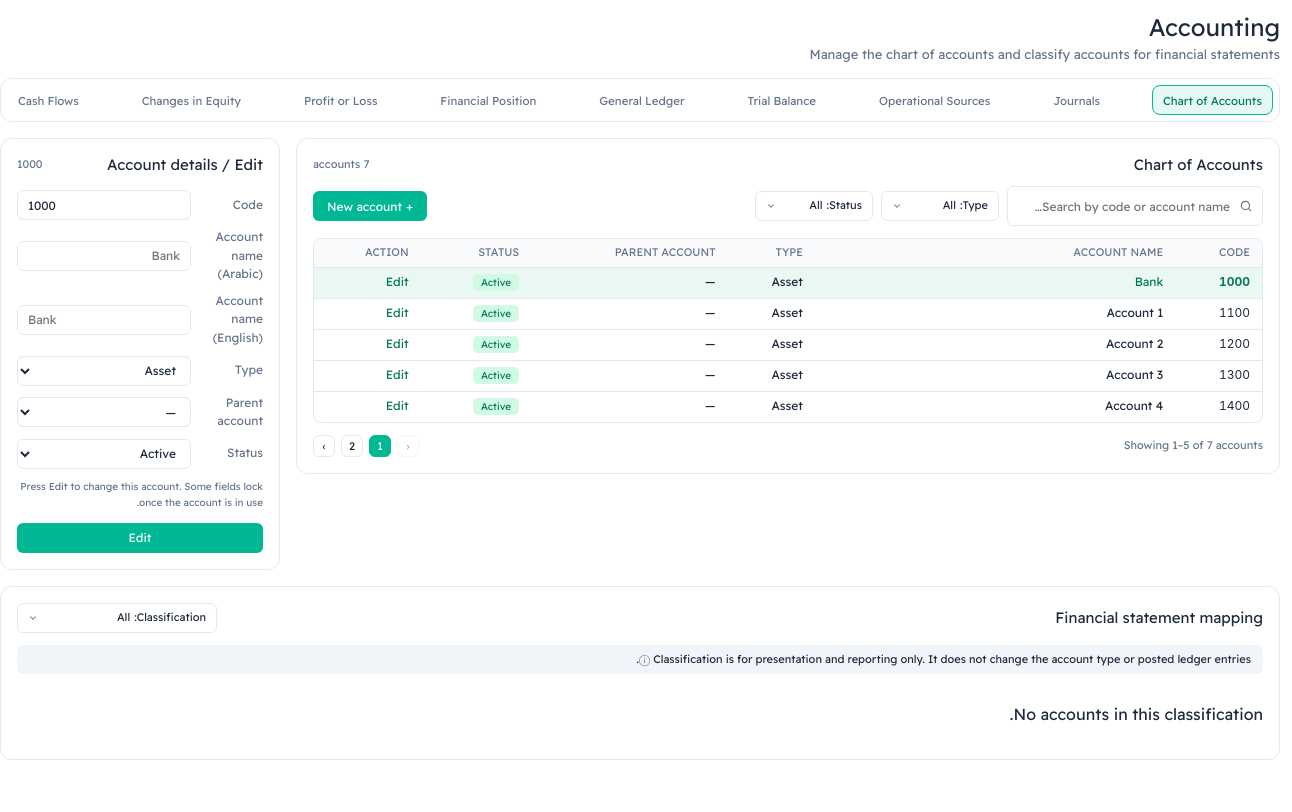
Test case: Accounting chart-of-accounts workspace › pages and filters the loaded accounts without extra requests
Check: the text "Bank" is shown, box [815, 267, 1175, 298]
Check: the text "Account 6" is not shown
Click the button "2": (352, 446) [341, 435, 363, 457]
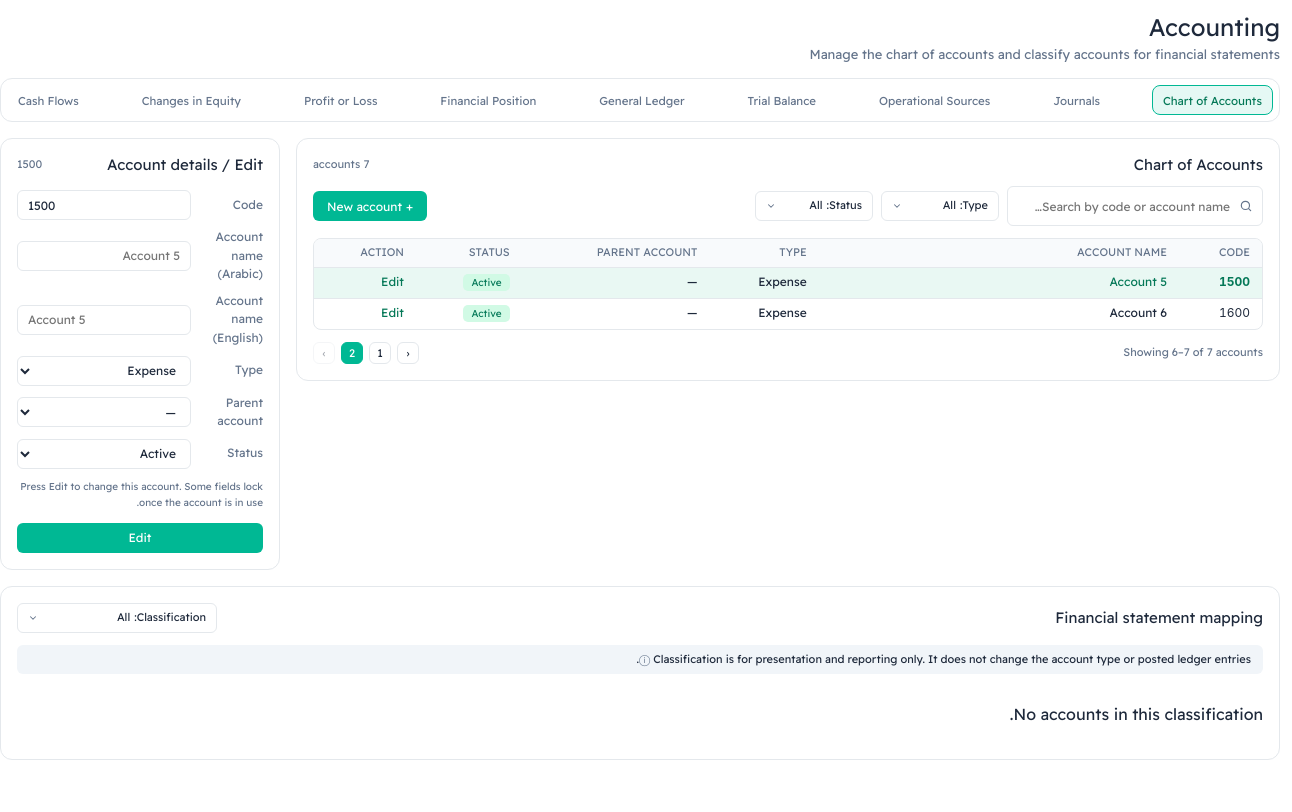
Check: the text "Account 6" is shown, box [819, 298, 1179, 329]
In the search field: (1135, 206) [1007, 186, 1263, 226], type "bank"
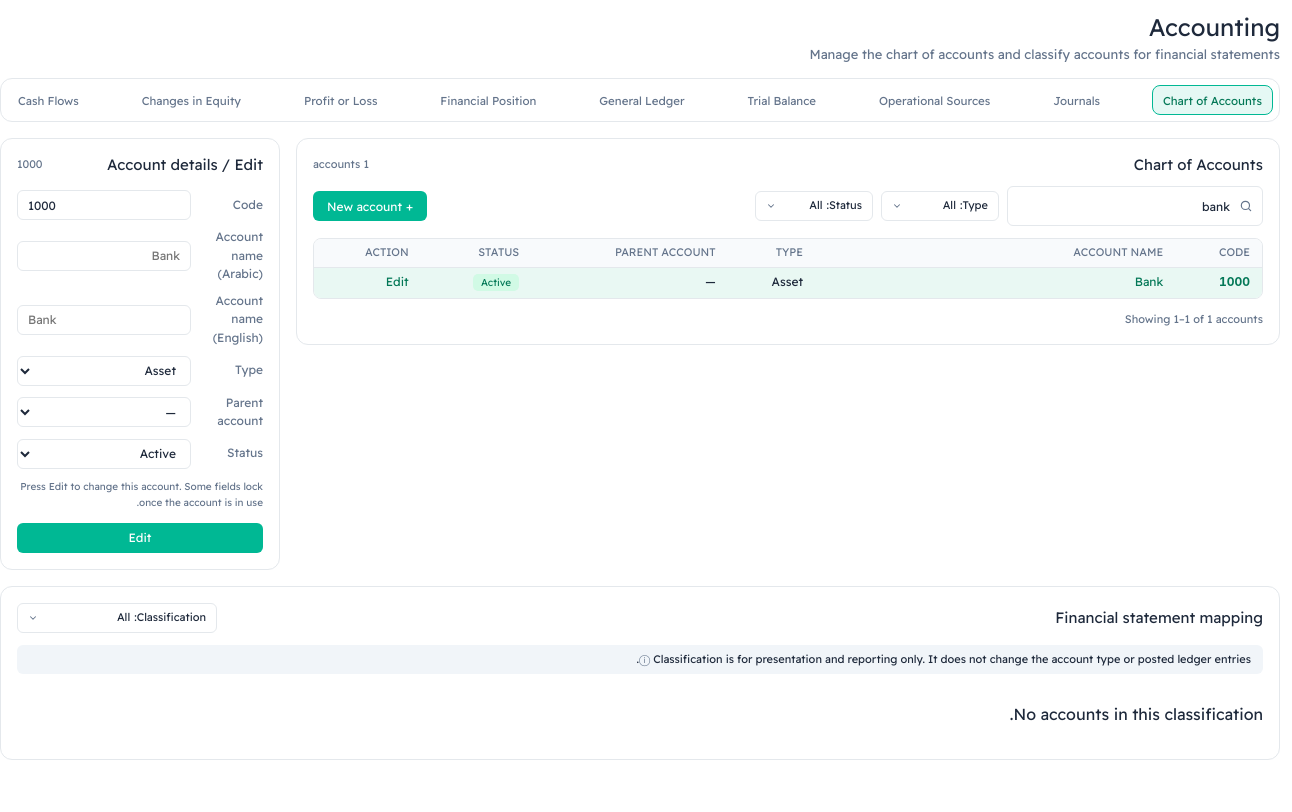
Check: the text "Showing 1–1 of 1 accounts" is shown, box [1125, 311, 1263, 328]
